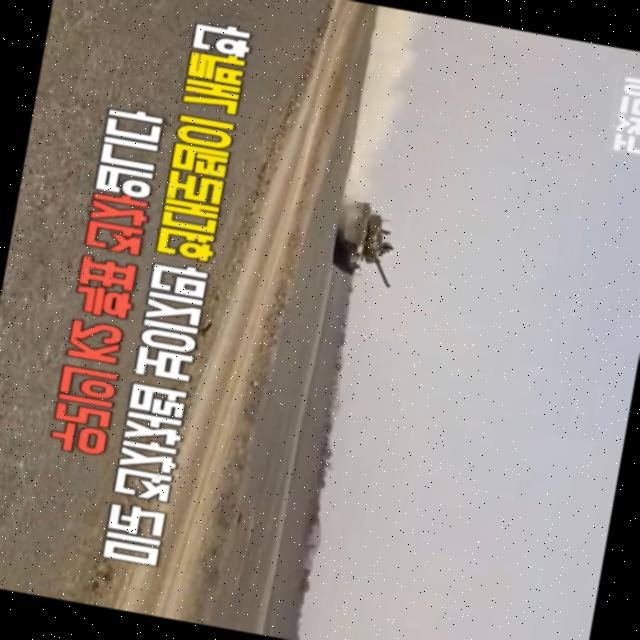korea tank: (328, 197, 403, 288)
